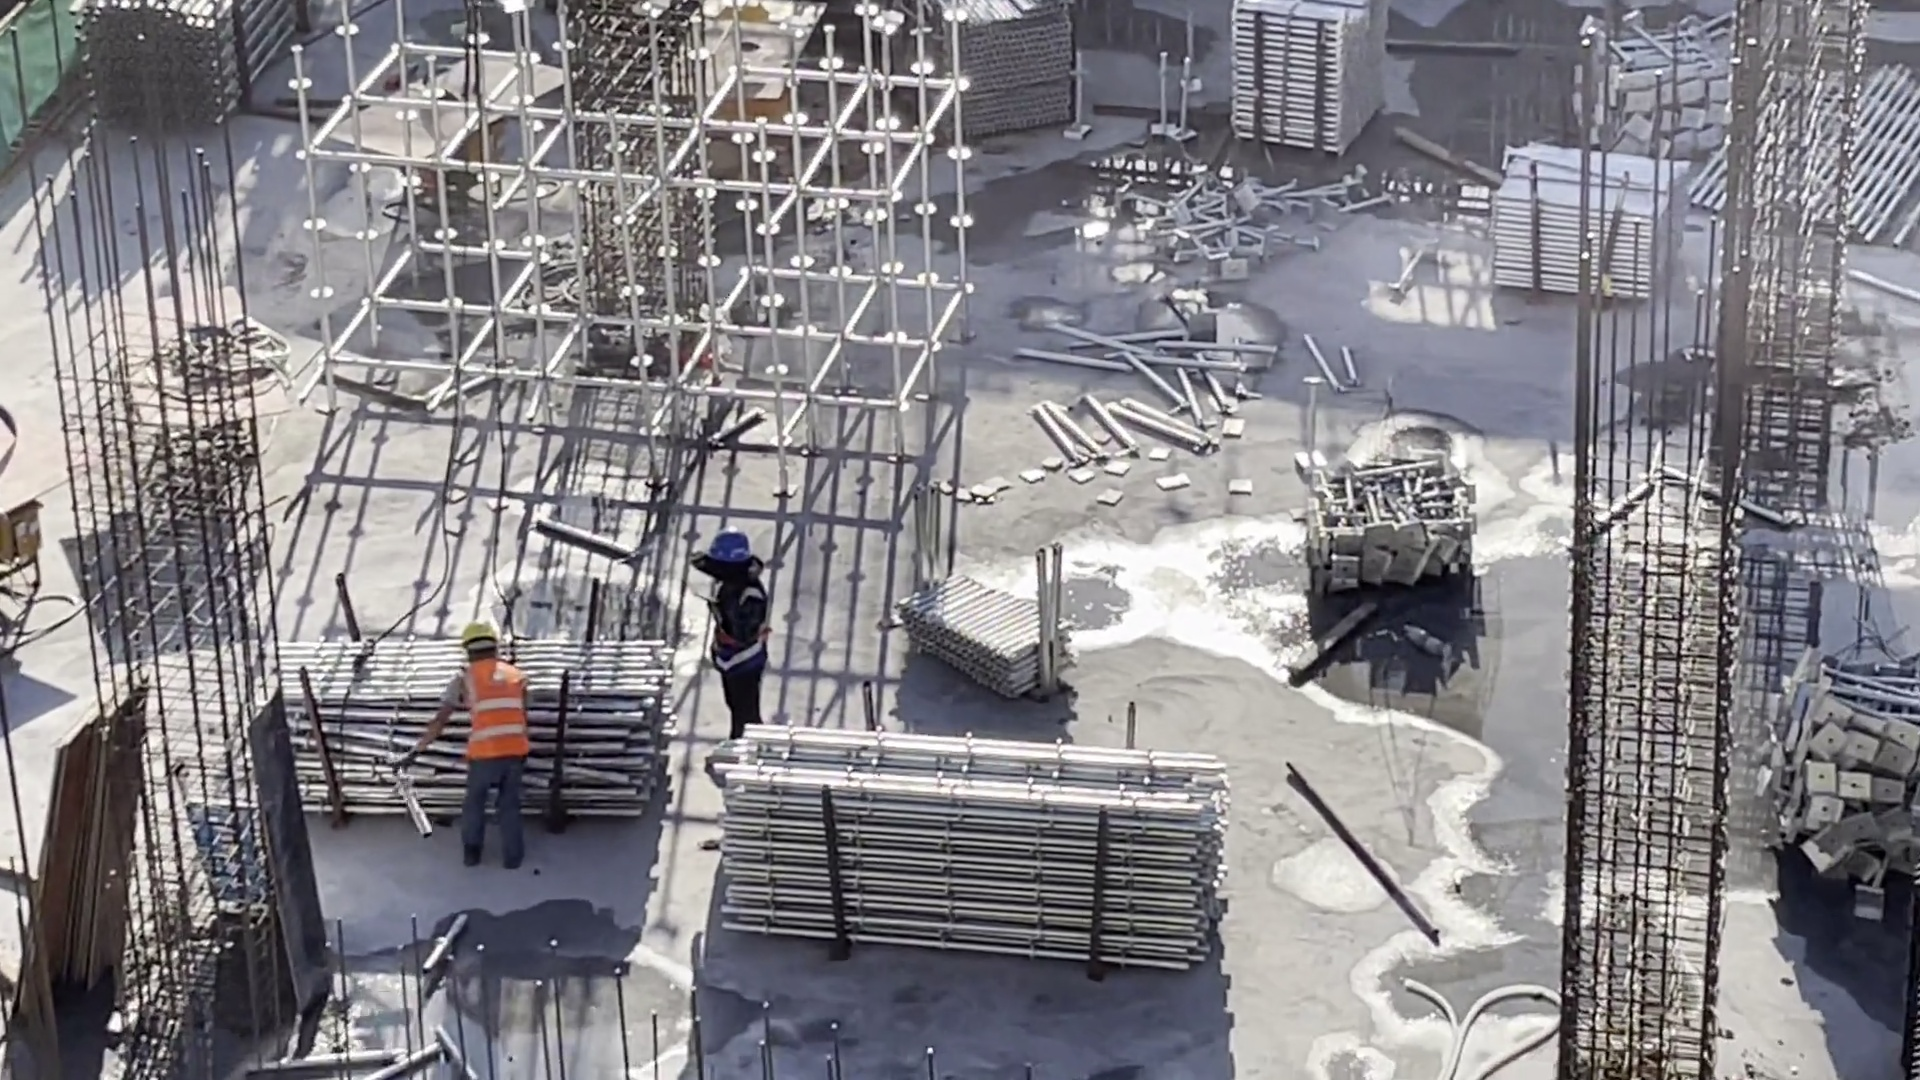board: (16, 692, 177, 1052)
cutter: (332, 50, 570, 206), (97, 282, 288, 475), (640, 1, 848, 117)
helmet: (708, 534, 760, 574), (463, 622, 503, 652)
person: (434, 623, 538, 878), (692, 537, 785, 767)
scaffold: (707, 726, 1224, 968), (230, 632, 672, 817), (1781, 659, 1920, 904), (1492, 159, 1681, 297), (102, 1, 311, 114), (934, 1, 1094, 142), (1233, 1, 1380, 147), (1600, 24, 1762, 154), (1305, 456, 1461, 584), (921, 551, 1032, 699), (1157, 164, 1315, 246)
vest: (447, 660, 531, 758), (706, 577, 766, 689)
